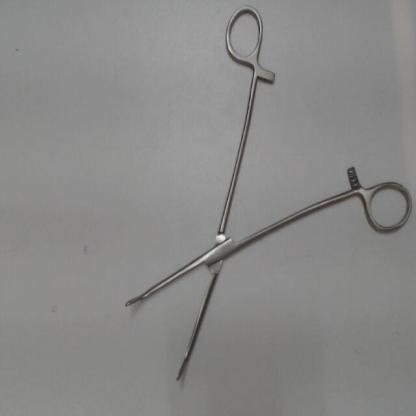Lahey Forceps: (119, 3, 414, 386)
